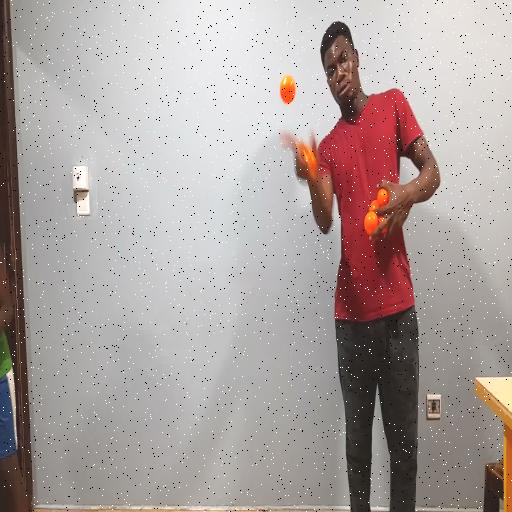plastic-ball: (276, 70, 298, 111)
